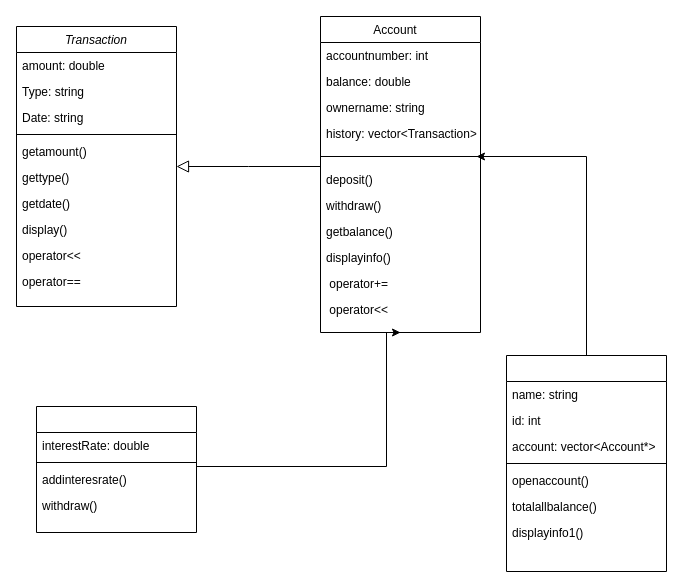
Some shapes in this 683 by 588 pixel diagram are drawn without their labels. Here are the shapes that lost their labels. From the top down, the box of each, then its label:
(36, 406, 196, 532): SavingAccount
(506, 354, 666, 572): Customer
